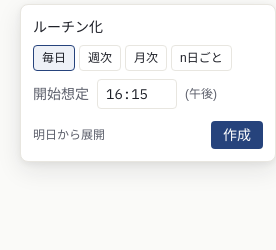
Test: RoutinizePopover（画面定義書01 §4.1 / O-12: 最小の入力でタスクからルーチンを作る） › 入力の検証（§4.1: 不正なら確定させずポップオーバー内に出す） › invalid_interval_days: n日ごとの間隔が範囲外
Click the button "n日ごと" at (201, 58), box [171,45,232,71]
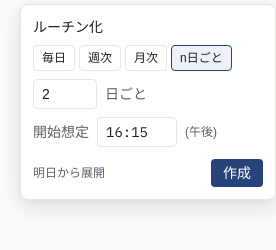
Replace the text in the number field labelled "日ごと" with "0" at (65, 94), box [33,79,97,109]
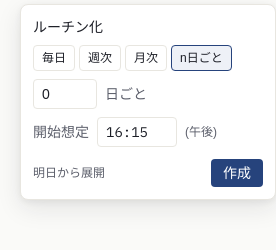
Click the button "作成" at (237, 173), box [211,159,263,187]
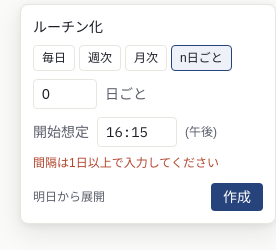
Check: the text "間隔は1日以上で入力してください" is shown, box [33,156,219,170]
